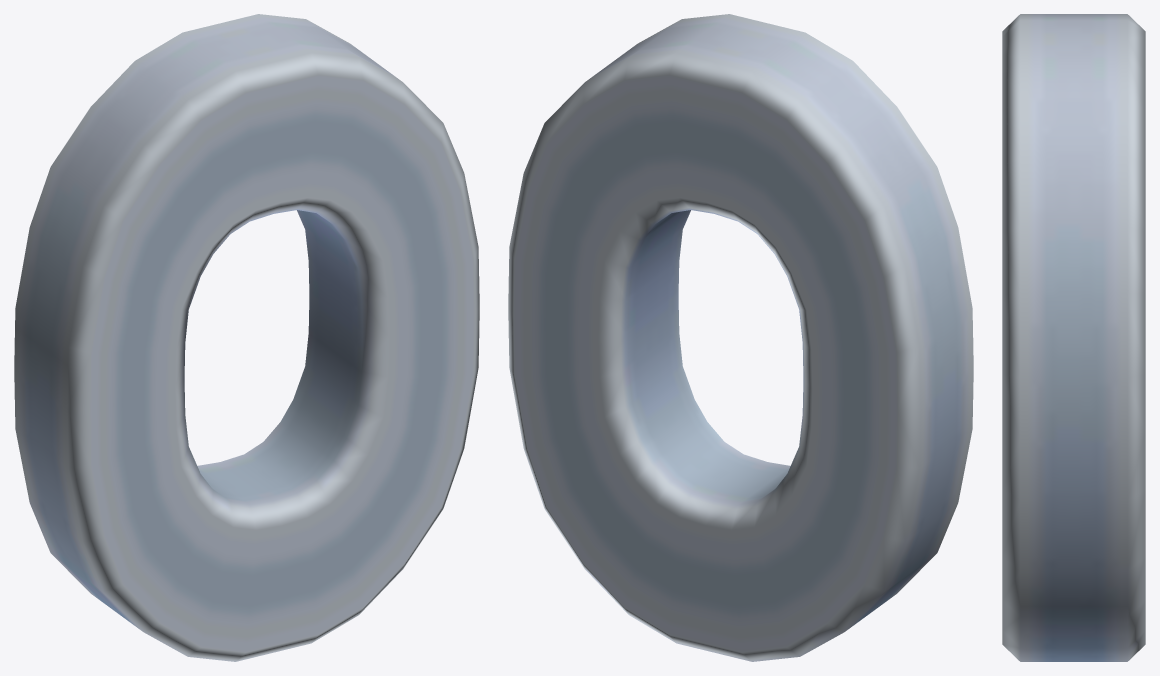
Rendered from rmk_nmb_0.dae.
The picture shows the model from 3 angles, left to right: view 1: azimuth 30°, elevation 25°; view 2: azimuth 150°, elevation 25°; view 3: azimuth 270°, elevation 25°; orthographic projection.
Parts seen in each view (by area): view 1: rmk_nmb_0; view 2: rmk_nmb_0; view 3: rmk_nmb_0.
Part boxes in pixels (x1,y1,x2,y2): rmk_nmb_0: (14,14,479,661); rmk_nmb_0: (508,14,973,661); rmk_nmb_0: (1002,14,1145,661).
Bounding box in the file's own units: 21.89 × 29.96 × 6.5.
Materials: 1 (1 with a texture image).
